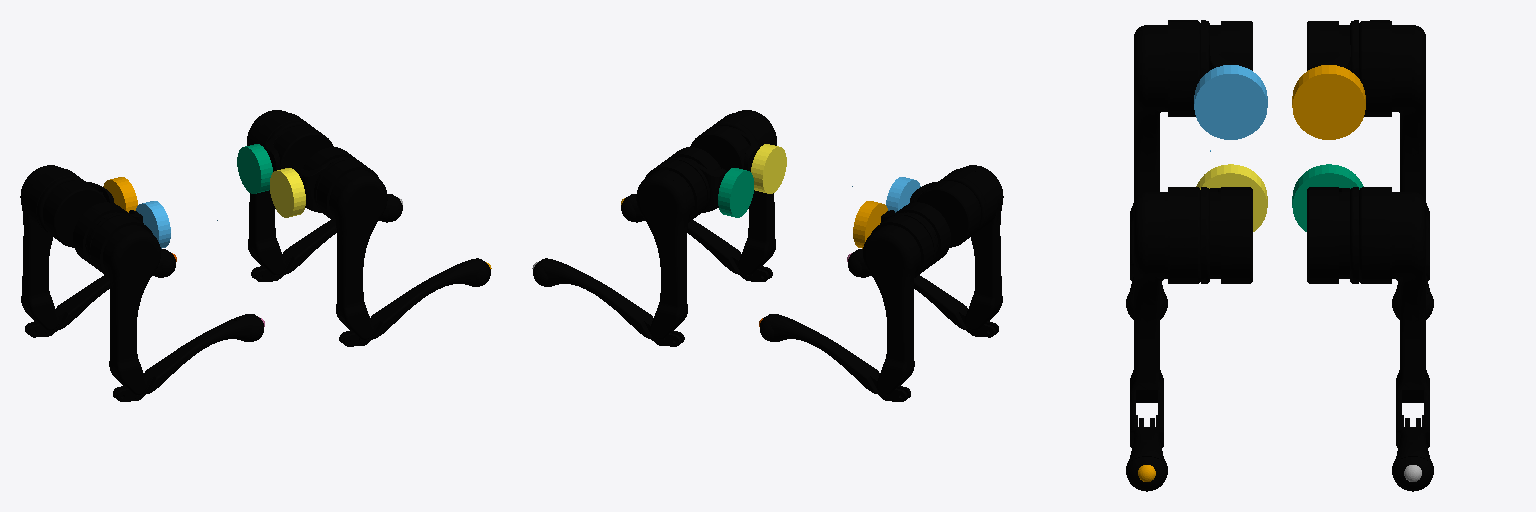
--- Render facts (derived) ---
Views: 3 orthographic renders of the robot side by side, from view 1: azimuth 30°, elevation 25°; view 2: azimuth 150°, elevation 25°; view 3: azimuth 270°, elevation 25°.
Model go1 with 45 links and 44 joints (12 revolute, 32 fixed), rooted at trunk, posed all joints at 0 but 4 set to mid-range because 0 is outside their limits (FR_calf_joint = -1.85, FL_calf_joint = -1.85, RR_calf_joint = -1.85, RL_calf_joint = -1.85).
Visible links, largest first — view 1: RR_thigh, FR_thigh, RL_thigh, FL_thigh, FR_calf, RR_calf, RL_hip, FL_hip, RL_calf, FL_calf, FR_hip_rotor, FL_hip_rotor (+4 smaller); view 2: RL_thigh, FL_thigh, RR_thigh, FR_thigh, FL_calf, RL_calf, RR_hip, FR_hip, RR_calf, FR_calf, FL_hip_rotor, FR_hip_rotor (+4 smaller); view 3: FR_thigh, FL_thigh, RR_thigh, RL_thigh, RR_hip_rotor, RL_hip_rotor, FR_hip, FL_hip, FR_calf, FL_calf, RR_hip, RL_hip (+2 smaller).
Boxes of the visible links, left/top/right/bottom form: RR_thigh: left=87, top=213, right=160, bottom=394; FR_thigh: left=314, top=158, right=387, bottom=339; RL_thigh: left=20, top=165, right=83, bottom=330; FL_thigh: left=247, top=110, right=313, bottom=274; FR_calf: left=339, top=258, right=490, bottom=346; RR_calf: left=113, top=314, right=263, bottom=401; RL_hip: left=43, top=181, right=114, bottom=247; FL_hip: left=265, top=126, right=333, bottom=171; RL_calf: left=25, top=249, right=175, bottom=337; FL_calf: left=251, top=194, right=402, bottom=281; FR_hip_rotor: left=270, top=168, right=305, bottom=217; FL_hip_rotor: left=237, top=144, right=272, bottom=193; RL_thigh: left=863, top=213, right=936, bottom=394; FL_thigh: left=636, top=158, right=709, bottom=339; RR_thigh: left=940, top=165, right=1003, bottom=330; FR_thigh: left=710, top=110, right=776, bottom=274; FL_calf: left=533, top=258, right=684, bottom=346; RL_calf: left=760, top=314, right=910, bottom=401; RR_hip: left=909, top=181, right=980, bottom=247; FR_hip: left=690, top=126, right=758, bottom=171; RR_calf: left=848, top=249, right=998, bottom=337; FR_calf: left=621, top=194, right=772, bottom=281; FL_hip_rotor: left=718, top=168, right=753, bottom=217; FR_hip_rotor: left=751, top=144, right=786, bottom=193; FR_thigh: left=1130, top=187, right=1209, bottom=430; FL_thigh: left=1350, top=187, right=1429, bottom=430; RR_thigh: left=1130, top=20, right=1209, bottom=263; RL_thigh: left=1350, top=20, right=1429, bottom=263; RR_hip_rotor: left=1194, top=65, right=1267, bottom=139; RL_hip_rotor: left=1292, top=65, right=1365, bottom=139; FR_hip: left=1209, top=187, right=1252, bottom=283; FL_hip: left=1307, top=187, right=1350, bottom=283; FR_calf: left=1126, top=418, right=1167, bottom=491; FL_calf: left=1392, top=418, right=1433, bottom=491; RR_hip: left=1209, top=21, right=1252, bottom=70; RL_hip: left=1307, top=21, right=1350, bottom=70.
Bounding box of the posed robot: 0.6367 × 0.2935 × 0.271 m (x, y, z).
Meshes: 7 distinct files referenced, 12 mesh visuals loaded (4 Collada DAE); not drawn: 9 (reference not matched to a file when rendering).

URDF robot description (go1):
<?xml version="1.0" ?>
<!-- =================================================================================== -->
<!-- |    This document was autogenerated by xacro from robot.xacro                    | -->
<!-- |    EDITING THIS FILE BY HAND IS NOT RECOMMENDED                                 | -->
<!-- =================================================================================== -->
<robot name="go1">
  <link name="trunk">
    <visual>
      <origin rpy="0 0 0" xyz="0 0 0"/>
      <geometry>
        <mesh filename="package://go1_description/meshes/trunk.dae" scale="1 1 1"/>
      </geometry>
      <!-- <material name="orange"/> -->
    </visual>
    <collision>
      <origin rpy="0 0 0" xyz="0.03 0 0"/>
      <!-- <origin rpy="0 0 0" xyz="0 0 0"/> -->
      <geometry>
        <!-- <box size="0.3762 0.0935 0.114"/> -->
        <box size="0.48 0.13 0.114"/>
      </geometry>
    </collision>
    <inertial>
      <origin rpy="0 0 0" xyz="0.0223 0.002 -0.0005"/>
      <mass value="5.204"/>
      <inertia ixx="0.0168128557" ixy="-0.0002296769" ixz="-0.0002945293" iyy="0.063009565" iyz="-4.18731e-05" izz="0.0716547275"/>
    </inertial>
  </link>
  <joint name="imu_joint" type="fixed">
    <parent link="trunk"/>
    <child link="imu_link"/>
    <origin rpy="0 0 0" xyz="-0.01592 -0.06659 -0.00617"/>
  </joint>
  <link name="imu_link">
    <inertial>
      <mass value="0.001"/>
      <origin rpy="0 0 0" xyz="0 0 0"/>
      <inertia ixx="0.0001" ixy="0" ixz="0" iyy="0.0001" iyz="0" izz="0.0001"/>
    </inertial>
    <visual>
      <origin rpy="0 0 0" xyz="0 0 0"/>
      <geometry>
        <box size="0.001 0.001 0.001"/>
      </geometry>
      <!-- <material name="red"/> -->
    </visual>
    <!-- <collision>
      <origin rpy="0 0 0" xyz="0 0 0"/>
      <geometry>
        <box size=".001 .001 .001"/>
      </geometry>
    </collision> -->
  </link>
  <joint name="FR_hip_joint" type="revolute">
    <origin rpy="0 0 0" xyz="0.1881 -0.04675 0"/>
    <parent link="trunk"/>
    <child link="FR_hip"/>
    <axis xyz="1 0 0"/>
    <dynamics damping="0.0" friction="0.0"/>
    <limit effort="23.7" lower="-0.863" upper="0.863" velocity="30.1"/>
  </joint>
  <joint name="FR_hip_rotor_joint" type="fixed">
    <origin rpy="0 0 0" xyz="0.11215 -0.04675 0"/>
    <parent link="trunk"/>
    <child link="FR_hip_rotor"/>
  </joint>
  <link name="FR_hip">
    <visual>
      <origin rpy="3.141592653589793 0 0" xyz="0 0 0"/>
      <geometry>
        <mesh filename="package://go1_description/meshes/hip.dae" scale="1 1 1"/>
      </geometry>
      <!-- <material name="orange"/> -->
    </visual>
    <collision>
      <origin rpy="1.5707963267948966 0 0" xyz="0 -0.08 0"/>
      <geometry>
        <cylinder length="0.04" radius="0.046"/>
      </geometry>
    </collision>
    <inertial>
      <origin rpy="0 0 0" xyz="-0.005657 0.008752 -0.000102"/>
      <mass value="0.591"/>
      <inertia ixx="0.000334008405" ixy="1.0826066e-05" ixz="1.290732e-06" iyy="0.000619101213" iyz="-1.643194e-06" izz="0.00040057614"/>
    </inertial>
  </link>
  <link name="FR_hip_rotor">
    <visual>
      <origin rpy="0 1.5707963267948966 0" xyz="0 0 0"/>
      <geometry>
        <cylinder length="0.02" radius="0.035"/>
      </geometry>
      <material name="green"/>
    </visual>
    <!-- <collision>
      <origin rpy="0 1.5707963267948966 0" xyz="0 0 0"/>
      <geometry>
        <cylinder length="0.02" radius="0.035"/>
      </geometry>
    </collision> -->
    <inertial>
      <origin rpy="0 0 0" xyz="0.0 0.0 0.0"/>
      <mass value="0.089"/>
      <inertia ixx="0.000111842" ixy="0.0" ixz="0.0" iyy="5.9647e-05" iyz="0.0" izz="5.9647e-05"/>
    </inertial>
  </link>
  <joint name="FR_thigh_joint" type="revolute">
    <origin rpy="0 0 0" xyz="0 -0.08 0"/>
    <parent link="FR_hip"/>
    <child link="FR_thigh"/>
    <axis xyz="0 1 0"/>
    <dynamics damping="0.0" friction="0.0"/>
    <limit effort="23.7" lower="-0.686" upper="4.501" velocity="30.1"/>
  </joint>
  <joint name="FR_thigh_rotor_joint" type="fixed">
    <origin rpy="0 0 0" xyz="0.0 0.00015 0"/>
    <parent link="FR_hip"/>
    <child link="FR_thigh_rotor"/>
  </joint>
  <link name="FR_thigh">
    <visual>
      <origin rpy="0 0 0" xyz="0 0 0"/>
      <geometry>
        <mesh filename="package://go1_description/meshes/thigh_mirror.dae" scale="1 1 1"/>
      </geometry>
    </visual>
    <collision>
      <origin rpy="0 1.5707963267948966 0" xyz="0 0 -0.1065"/>
      <geometry>
        <!-- <box size="0.213 0.0245 0.034"/> -->
        <box size="0.1 0.0245 0.034"/>
      </geometry>
    </collision>
    <inertial>
      <origin rpy="0 0 0" xyz="-0.003342 0.018054 -0.033451"/>
      <mass value="0.92"/>
      <inertia ixx="0.004431760472" ixy="-5.7496807e-05" ixz="-0.000218457134" iyy="0.004485671726" iyz="-0.000572001265" izz="0.000740309489"/>
    </inertial>
  </link>
  <link name="FR_thigh_rotor">
    <visual>
      <origin rpy="1.5707963267948966 0 0" xyz="0 0 0"/>
      <geometry>
        <cylinder length="0.02" radius="0.035"/>
      </geometry>
      <material name="green"/>
    </visual>
    <!-- <collision>
      <origin rpy="1.5707963267948966 0 0" xyz="0 0 0"/>
      <geometry>
        <cylinder length="0.02" radius="0.035"/>
      </geometry>
    </collision> -->
    <inertial>
      <origin rpy="0 0 0" xyz="0.0 0.0 0.0"/>
      <mass value="0.089"/>
      <inertia ixx="5.9647e-05" ixy="0.0" ixz="0.0" iyy="0.000111842" iyz="0.0" izz="5.9647e-05"/>
    </inertial>
  </link>
  <joint name="FR_calf_joint" type="revolute">
    <origin rpy="0 0 0" xyz="0 0 -0.213"/>
    <parent link="FR_thigh"/>
    <child link="FR_calf"/>
    <axis xyz="0 1 0"/>
    <dynamics damping="0.0" friction="0.0"/>
    <limit effort="35.55" lower="-2.818" upper="-0.888" velocity="20.06"/>
  </joint>
  <joint name="FR_calf_rotor_joint" type="fixed">
    <origin rpy="0 0 0" xyz="0.0 0.03235 0"/>
    <parent link="FR_thigh"/>
    <child link="FR_calf_rotor"/>
  </joint>
  <link name="FR_calf">
    <visual>
      <origin rpy="0 0 0" xyz="0 0 0"/>
      <geometry>
        <mesh filename="package://go1_description/meshes/calf.dae" scale="1 1 1"/>
      </geometry>
      <!-- <material name="orange"/> -->
    </visual>
    <collision>
      <origin rpy="0 1.5707963267948966 0" xyz="0 0 -0.1065"/>
      <geometry>
        <box size="0.213 0.016 0.016"/>
      </geometry>
    </collision>
    <inertial>
      <origin rpy="0 0 0" xyz="0.006197 0.001408 -0.116695"/>
      <mass value="0.135862"/>
      <inertia ixx="0.001088793059" ixy="-2.55679e-07" ixz="7.117814e-06" iyy="0.001100428748" iyz="2.077264e-06" izz="2.4787446e-05"/>
    </inertial>
  </link>
  <link name="FR_calf_rotor">
    <visual>
      <origin rpy="1.5707963267948966 0 0" xyz="0 0 0"/>
      <geometry>
        <cylinder length="0.02" radius="0.035"/>
      </geometry>
      <material name="green"/>
    </visual>
    <collision>
      <origin rpy="1.5707963267948966 0 0" xyz="0 0 0"/>
      <geometry>
        <cylinder length="0.02" radius="0.035"/>
      </geometry>
    </collision>
    <inertial>
      <origin rpy="0 0 0" xyz="0.0 0.0 0.0"/>
      <mass value="0.089"/>
      <inertia ixx="5.9647e-05" ixy="0.0" ixz="0.0" iyy="0.000111842" iyz="0.0" izz="5.9647e-05"/>
    </inertial>
  </link>
  <joint name="FR_foot_fixed" type="fixed" dont_collapse="true">
    <origin rpy="0 0 0" xyz="0 0 -0.213"/>
    <parent link="FR_calf"/>
    <child link="FR_foot"/>
  </joint>
  <link name="FR_foot">
    <visual>
      <origin rpy="0 0 0" xyz="0 0 0"/>
      <geometry>
        <sphere radius="0.01"/>
      </geometry>
      <!-- <material name="orange"/> -->
    </visual>
    <collision>
      <origin rpy="0 0 0" xyz="0 0 0"/>
      <geometry>
        <sphere radius="0.02"/>
      </geometry>
    </collision>
    <inertial>
      <mass value="0.06"/>
      <inertia ixx="9.600000000000001e-06" ixy="0.0" ixz="0.0" iyy="9.600000000000001e-06" iyz="0.0" izz="9.600000000000001e-06"/>
    </inertial>
  </link>
  <joint name="FL_hip_joint" type="revolute">
    <origin rpy="0 0 0" xyz="0.1881 0.04675 0"/>
    <parent link="trunk"/>
    <child link="FL_hip"/>
    <axis xyz="1 0 0"/>
    <dynamics damping="0.0" friction="0.0"/>
    <limit effort="23.7" lower="-0.863" upper="0.863" velocity="30.1"/>
  </joint>
  <joint name="FL_hip_rotor_joint" type="fixed">
    <origin rpy="0 0 0" xyz="0.11215 0.04675 0"/>
    <parent link="trunk"/>
    <child link="FL_hip_rotor"/>
  </joint>
  <link name="FL_hip">
    <visual>
      <origin rpy="0 0 0" xyz="0 0 0"/>
      <geometry>
        <mesh filename="package://go1_description/meshes/hip.dae" scale="1 1 1"/>
      </geometry>
      <!-- <material name="orange"/> -->
    </visual>
    <collision>
      <origin rpy="1.5707963267948966 0 0" xyz="0 0.08 0"/>
      <geometry>
        <cylinder length="0.04" radius="0.046"/>
      </geometry>
    </collision>
    <inertial>
      <origin rpy="0 0 0" xyz="-0.005657 -0.008752 -0.000102"/>
      <mass value="0.591"/>
      <inertia ixx="0.000334008405" ixy="-1.0826066e-05" ixz="1.290732e-06" iyy="0.000619101213" iyz="1.643194e-06" izz="0.00040057614"/>
    </inertial>
  </link>
  <link name="FL_hip_rotor">
    <visual>
      <origin rpy="0 1.5707963267948966 0" xyz="0 0 0"/>
      <geometry>
        <cylinder length="0.02" radius="0.035"/>
      </geometry>
      <material name="green"/>
    </visual>
    <!-- <collision>
      <origin rpy="0 1.5707963267948966 0" xyz="0 0 0"/>
      <geometry>
        <cylinder length="0.02" radius="0.035"/>
      </geometry>
    </collision> -->
    <inertial>
      <origin rpy="0 0 0" xyz="0.0 0.0 0.0"/>
      <mass value="0.089"/>
      <inertia ixx="0.000111842" ixy="0.0" ixz="0.0" iyy="5.9647e-05" iyz="0.0" izz="5.9647e-05"/>
    </inertial>
  </link>
  <joint name="FL_thigh_joint" type="revolute">
    <origin rpy="0 0 0" xyz="0 0.08 0"/>
    <parent link="FL_hip"/>
    <child link="FL_thigh"/>
    <axis xyz="0 1 0"/>
    <dynamics damping="0.0" friction="0.0"/>
    <limit effort="23.7" lower="-0.686" upper="4.501" velocity="30.1"/>
  </joint>
  <joint name="FL_thigh_rotor_joint" type="fixed">
    <origin rpy="0 0 0" xyz="0.0 -0.00015 0"/>
    <parent link="FL_hip"/>
    <child link="FL_thigh_rotor"/>
  </joint>
  <link name="FL_thigh">
    <visual>
      <origin rpy="0 0 0" xyz="0 0 0"/>
      <geometry>
        <mesh filename="package://go1_description/meshes/thigh.dae" scale="1 1 1"/>
      </geometry>
      <!-- <material name="orange"/> -->
    </visual>
    <collision>
      <origin rpy="0 1.5707963267948966 0" xyz="0 0 -0.1065"/>
      <geometry>
        <!-- <box size="0.213 0.0245 0.034"/> -->
        <box size="0.1 0.0245 0.034"/>
      </geometry>
    </collision>
    <inertial>
      <origin rpy="0 0 0" xyz="-0.003342 -0.018054 -0.033451"/>
      <mass value="0.92"/>
      <inertia ixx="0.004431760472" ixy="5.7496807e-05" ixz="-0.000218457134" iyy="0.004485671726" iyz="0.000572001265" izz="0.000740309489"/>
    </inertial>
  </link>
  <link name="FL_thigh_rotor">
    <visual>
      <origin rpy="1.5707963267948966 0 0" xyz="0 0 0"/>
      <geometry>
        <cylinder length="0.02" radius="0.035"/>
      </geometry>
      <material name="green"/>
    </visual>
    <!-- <collision>
      <origin rpy="1.5707963267948966 0 0" xyz="0 0 0"/>
      <geometry>
        <cylinder length="0.02" radius="0.035"/>
      </geometry>
    </collision> -->
    <inertial>
      <origin rpy="0 0 0" xyz="0.0 0.0 0.0"/>
      <mass value="0.089"/>
      <inertia ixx="5.9647e-05" ixy="0.0" ixz="0.0" iyy="0.000111842" iyz="0.0" izz="5.9647e-05"/>
    </inertial>
  </link>
  <joint name="FL_calf_joint" type="revolute">
    <origin rpy="0 0 0" xyz="0 0 -0.213"/>
    <parent link="FL_thigh"/>
    <child link="FL_calf"/>
    <axis xyz="0 1 0"/>
    <dynamics damping="0.0" friction="0.0"/>
    <limit effort="35.55" lower="-2.818" upper="-0.888" velocity="20.06"/>
  </joint>
  <joint name="FL_calf_rotor_joint" type="fixed">
    <origin rpy="0 0 0" xyz="0.0 -0.03235 0"/>
    <parent link="FL_thigh"/>
    <child link="FL_calf_rotor"/>
  </joint>
  <link name="FL_calf">
    <visual>
      <origin rpy="0 0 0" xyz="0 0 0"/>
      <geometry>
        <mesh filename="package://go1_description/meshes/calf.dae" scale="1 1 1"/>
      </geometry>
      <!-- <material name="orange"/> -->
    </visual>
    <collision>
      <origin rpy="0 1.5707963267948966 0" xyz="0 0 -0.1065"/>
      <geometry>
        <box size="0.213 0.016 0.016"/>
      </geometry>
    </collision>
    <inertial>
      <origin rpy="0 0 0" xyz="0.006197 0.001408 -0.116695"/>
      <mass value="0.135862"/>
      <inertia ixx="0.001088793059" ixy="-2.55679e-07" ixz="7.117814e-06" iyy="0.001100428748" iyz="2.077264e-06" izz="2.4787446e-05"/>
    </inertial>
  </link>
  <link name="FL_calf_rotor">
    <visual>
      <origin rpy="1.5707963267948966 0 0" xyz="0 0 0"/>
      <geometry>
        <cylinder length="0.02" radius="0.035"/>
      </geometry>
      <material name="green"/>
    </visual>
    <collision>
      <origin rpy="1.5707963267948966 0 0" xyz="0 0 0"/>
      <geometry>
        <cylinder length="0.02" radius="0.035"/>
      </geometry>
    </collision>
    <inertial>
      <origin rpy="0 0 0" xyz="0.0 0.0 0.0"/>
      <mass value="0.089"/>
      <inertia ixx="5.9647e-05" ixy="0.0" ixz="0.0" iyy="0.000111842" iyz="0.0" izz="5.9647e-05"/>
    </inertial>
  </link>
  <joint name="FL_foot_fixed" type="fixed" dont_collapse="true">
    <origin rpy="0 0 0" xyz="0 0 -0.213"/>
    <parent link="FL_calf"/>
    <child link="FL_foot"/>
  </joint>
  <link name="FL_foot">
    <visual>
      <origin rpy="0 0 0" xyz="0 0 0"/>
      <geometry>
        <sphere radius="0.01"/>
      </geometry>
      <!-- <material name="orange"/> -->
    </visual>
    <collision>
      <origin rpy="0 0 0" xyz="0 0 0"/>
      <geometry>
        <sphere radius="0.02"/>
      </geometry>
    </collision>
    <inertial>
      <mass value="0.06"/>
      <inertia ixx="9.600000000000001e-06" ixy="0.0" ixz="0.0" iyy="9.600000000000001e-06" iyz="0.0" izz="9.600000000000001e-06"/>
    </inertial>
  </link>
  <joint name="RR_hip_joint" type="revolute">
    <origin rpy="0 0 0" xyz="-0.1881 -0.04675 0"/>
    <parent link="trunk"/>
    <child link="RR_hip"/>
    <axis xyz="1 0 0"/>
    <dynamics damping="0.0" friction="0.0"/>
    <limit effort="23.7" lower="-0.863" upper="0.863" velocity="30.1"/>
  </joint>
  <joint name="RR_hip_rotor_joint" type="fixed">
    <origin rpy="0 0 0" xyz="-0.11215 -0.04675 0"/>
    <parent link="trunk"/>
    <child link="RR_hip_rotor"/>
  </joint>
  <link name="RR_hip">
    <visual>
      <origin rpy="3.141592653589793 3.141592653589793 0" xyz="0 0 0"/>
      <geometry>
        <mesh filename="package://go1_description/meshes/hip.dae" scale="1 1 1"/>
      </geometry>
      <!-- <material name="orange"/> -->
    </visual>
    <collision>
      <origin rpy="1.5707963267948966 0 0" xyz="0 -0.08 0"/>
      <geometry>
        <cylinder length="0.04" radius="0.046"/>
      </geometry>
    </collision>
    <inertial>
      <origin rpy="0 0 0" xyz="0.005657 0.008752 -0.000102"/>
      <mass value="0.591"/>
      <inertia ixx="0.000334008405" ixy="-1.0826066e-05" ixz="-1.290732e-06" iyy="0.000619101213" iyz="-1.643194e-06" izz="0.00040057614"/>
    </inertial>
  </link>
  <link name="RR_hip_rotor">
    <visual>
      <origin rpy="0 1.5707963267948966 0" xyz="0 0 0"/>
      <geometry>
        <cylinder length="0.02" radius="0.035"/>
      </geometry>
      <material name="green"/>
    </visual>
    <!-- <collision>
      <origin rpy="0 1.5707963267948966 0" xyz="0 0 0"/>
      <geometry>
        <cylinder length="0.02" radius="0.035"/>
      </geometry>
    </collision> -->
    <inertial>
      <origin rpy="0 0 0" xyz="0.0 0.0 0.0"/>
      <mass value="0.089"/>
      <inertia ixx="0.000111842" ixy="0.0" ixz="0.0" iyy="5.9647e-05" iyz="0.0" izz="5.9647e-05"/>
    </inertial>
  </link>
  <joint name="RR_thigh_joint" type="revolute">
    <origin rpy="0 0 0" xyz="0 -0.08 0"/>
    <parent link="RR_hip"/>
    <child link="RR_thigh"/>
    <axis xyz="0 1 0"/>
    <dynamics damping="0.0" friction="0.0"/>
    <limit effort="23.7" lower="-0.686" upper="4.501" velocity="30.1"/>
  </joint>
  <joint name="RR_thigh_rotor_joint" type="fixed">
    <origin rpy="0 0 0" xyz="0.0 0.00015 0"/>
    <parent link="RR_hip"/>
    <child link="RR_thigh_rotor"/>
  </joint>
  <link name="RR_thigh">
    <visual>
      <origin rpy="0 0 0" xyz="0 0 0"/>
      <geometry>
        <mesh filename="package://go1_description/meshes/thigh_mirror.dae" scale="1 1 1"/>
      </geometry>
      <!-- <material name="orange"/> -->
    </visual>
    <collision>
      <origin rpy="0 1.5707963267948966 0" xyz="0 0 -0.1065"/>
      <geometry>
        <!-- <box size="0.213 0.0245 0.034"/> -->
        <box size="0.1 0.0245 0.034"/>
      </geometry>
    </collision>
    <inertial>
      <origin rpy="0 0 0" xyz="-0.003342 0.018054 -0.033451"/>
      <mass value="0.92"/>
      <inertia ixx="0.004431760472" ixy="-5.7496807e-05" ixz="-0.000218457134" iyy="0.004485671726" iyz="-0.000572001265" izz="0.000740309489"/>
    </inertial>
  </link>
  <link name="RR_thigh_rotor">
    <visual>
      <origin rpy="1.5707963267948966 0 0" xyz="0 0 0"/>
      <geometry>
        <cylinder length="0.02" radius="0.035"/>
      </geometry>
      <material name="green"/>
    </visual>
    <!-- <collision>
      <origin rpy="1.5707963267948966 0 0" xyz="0 0 0"/>
      <geometry>
        <cylinder length="0.02" radius="0.035"/>
      </geometry>
    </collision> -->
    <inertial>
      <origin rpy="0 0 0" xyz="0.0 0.0 0.0"/>
      <mass value="0.089"/>
      <inertia ixx="5.9647e-05" ixy="0.0" ixz="0.0" iyy="0.000111842" iyz="0.0" izz="5.9647e-05"/>
    </inertial>
  </link>
  <joint name="RR_calf_joint" type="revolute">
    <origin rpy="0 0 0" xyz="0 0 -0.213"/>
    <parent link="RR_thigh"/>
    <child link="RR_calf"/>
    <axis xyz="0 1 0"/>
    <dynamics damping="0.0" friction="0.0"/>
    <limit effort="35.55" lower="-2.818" upper="-0.888" velocity="20.06"/>
  </joint>
  <joint name="RR_calf_rotor_joint" type="fixed">
    <origin rpy="0 0 0" xyz="0.0 0.03235 0"/>
    <parent link="RR_thigh"/>
    <child link="RR_calf_rotor"/>
  </joint>
  <link name="RR_calf">
    <visual>
      <origin rpy="0 0 0" xyz="0 0 0"/>
      <geometry>
        <mesh filename="package://go1_description/meshes/calf.dae" scale="1 1 1"/>
      </geometry>
      <!-- <material name="orange"/> -->
    </visual>
    <collision>
      <origin rpy="0 1.5707963267948966 0" xyz="0 0 -0.1065"/>
      <geometry>
        <box size="0.213 0.016 0.016"/>
      </geometry>
    </collision>
    <inertial>
      <origin rpy="0 0 0" xyz="0.006197 0.001408 -0.116695"/>
      <mass value="0.135862"/>
      <inertia ixx="0.001088793059" ixy="-2.55679e-07" ixz="7.117814e-06" iyy="0.001100428748" iyz="2.077264e-06" izz="2.4787446e-05"/>
    </inertial>
  </link>
  <link name="RR_calf_rotor">
    <visual>
      <origin rpy="1.5707963267948966 0 0" xyz="0 0 0"/>
      <geometry>
        <cylinder length="0.02" radius="0.035"/>
      </geometry>
      <material name="green"/>
    </visual>
    <collision>
      <origin rpy="1.5707963267948966 0 0" xyz="0 0 0"/>
      <geometry>
        <cylinder length="0.02" radius="0.035"/>
      </geometry>
    </collision>
    <inertial>
      <origin rpy="0 0 0" xyz="0.0 0.0 0.0"/>
      <mass value="0.089"/>
      <inertia ixx="5.9647e-05" ixy="0.0" ixz="0.0" iyy="0.000111842" iyz="0.0" izz="5.9647e-05"/>
    </inertial>
  </link>
  <joint name="RR_foot_fixed" type="fixed" dont_collapse="true">
    <origin rpy="0 0 0" xyz="0 0 -0.213"/>
    <parent link="RR_calf"/>
    <child link="RR_foot"/>
  </joint>
  <link name="RR_foot">
    <visual>
      <origin rpy="0 0 0" xyz="0 0 0"/>
      <geometry>
        <sphere radius="0.01"/>
      </geometry>
      <!-- <material name="orange"/> -->
    </visual>
    <collision>
      <origin rpy="0 0 0" xyz="0 0 0"/>
      <geometry>
        <sphere radius="0.02"/>
      </geometry>
    </collision>
    <inertial>
      <mass value="0.06"/>
      <inertia ixx="9.600000000000001e-06" ixy="0.0" ixz="0.0" iyy="9.600000000000001e-06" iyz="0.0" izz="9.600000000000001e-06"/>
    </inertial>
  </link>
  <joint name="RL_hip_joint" type="revolute">
    <origin rpy="0 0 0" xyz="-0.1881 0.04675 0"/>
    <parent link="trunk"/>
    <child link="RL_hip"/>
    <axis xyz="1 0 0"/>
    <dynamics damping="0.0" friction="0.0"/>
    <limit effort="23.7" lower="-0.863" upper="0.863" velocity="30.1"/>
  </joint>
  <joint name="RL_hip_rotor_joint" type="fixed">
    <origin rpy="0 0 0" xyz="-0.11215 0.04675 0"/>
    <parent link="trunk"/>
    <child link="RL_hip_rotor"/>
  </joint>
  <link name="RL_hip">
    <visual>
      <origin rpy="0 3.141592653589793 0" xyz="0 0 0"/>
      <geometry>
        <mesh filename="package://go1_description/meshes/hip.dae" scale="1 1 1"/>
      </geometry>
      <!-- <material name="orange"/> -->
    </visual>
    <collision>
      <origin rpy="1.5707963267948966 0 0" xyz="0 0.08 0"/>
      <geometry>
        <cylinder length="0.04" radius="0.046"/>
      </geometry>
    </collision>
    <inertial>
      <origin rpy="0 0 0" xyz="0.005657 -0.008752 -0.000102"/>
      <mass value="0.591"/>
      <inertia ixx="0.000334008405" ixy="1.0826066e-05" ixz="-1.290732e-06" iyy="0.000619101213" iyz="1.643194e-06" izz="0.00040057614"/>
    </inertial>
  </link>
  <link name="RL_hip_rotor">
    <visual>
      <origin rpy="0 1.5707963267948966 0" xyz="0 0 0"/>
      <geometry>
        <cylinder length="0.02" radius="0.035"/>
      </geometry>
      <material name="green"/>
    </visual>
    <!-- <collision>
      <origin rpy="0 1.5707963267948966 0" xyz="0 0 0"/>
      <geometry>
        <cylinder length="0.02" radius="0.035"/>
      </geometry>
    </collision> -->
    <inertial>
      <origin rpy="0 0 0" xyz="0.0 0.0 0.0"/>
      <mass value="0.089"/>
      <inertia ixx="0.000111842" ixy="0.0" ixz="0.0" iyy="5.9647e-05" iyz="0.0" izz="5.9647e-05"/>
    </inertial>
  </link>
  <joint name="RL_thigh_joint" type="revolute">
    <origin rpy="0 0 0" xyz="0 0.08 0"/>
    <parent link="RL_hip"/>
    <child link="RL_thigh"/>
    <axis xyz="0 1 0"/>
    <dynamics damping="0.0" friction="0.0"/>
    <limit effort="23.7" lower="-0.686" upper="4.501" velocity="30.1"/>
  </joint>
  <joint name="RL_thigh_rotor_joint" type="fixed">
    <origin rpy="0 0 0" xyz="0.0 -0.00015 0"/>
    <parent link="RL_hip"/>
    <child link="RL_thigh_rotor"/>
  </joint>
  <link name="RL_thigh">
    <visual>
      <origin rpy="0 0 0" xyz="0 0 0"/>
      <geometry>
        <mesh filename="package://go1_description/meshes/thigh.dae" scale="1 1 1"/>
      </geometry>
      <!-- <material name="orange"/> -->
    </visual>
    <collision>
      <origin rpy="0 1.5707963267948966 0" xyz="0 0 -0.1065"/>
      <geometry>
        <!-- <box size="0.213 0.0245 0.034"/> -->
        <box size="0.1 0.0245 0.034"/>
      </geometry>
    </collision>
    <inertial>
      <origin rpy="0 0 0" xyz="-0.003342 -0.018054 -0.033451"/>
      <mass value="0.92"/>
      <inertia ixx="0.004431760472" ixy="5.7496807e-05" ixz="-0.000218457134" iyy="0.004485671726" iyz="0.000572001265" izz="0.000740309489"/>
    </inertial>
  </link>
  <link name="RL_thigh_rotor">
    <visual>
      <origin rpy="1.5707963267948966 0 0" xyz="0 0 0"/>
      <geometry>
        <cylinder length="0.02" radius="0.035"/>
      </geometry>
      <material name="green"/>
    </visual>
    <!-- <collision>
      <origin rpy="1.5707963267948966 0 0" xyz="0 0 0"/>
      <geometry>
        <cylinder length="0.02" radius="0.035"/>
      </geometry>
    </collision> -->
    <inertial>
      <origin rpy="0 0 0" xyz="0.0 0.0 0.0"/>
      <mass value="0.089"/>
      <inertia ixx="5.9647e-05" ixy="0.0" ixz="0.0" iyy="0.000111842" iyz="0.0" izz="5.9647e-05"/>
    </inertial>
  </link>
  <joint name="RL_calf_joint" type="revolute">
    <origin rpy="0 0 0" xyz="0 0 -0.213"/>
    <parent link="RL_thigh"/>
    <child link="RL_calf"/>
    <axis xyz="0 1 0"/>
    <dynamics damping="0.0" friction="0.0"/>
    <limit effort="35.55" lower="-2.818" upper="-0.888" velocity="20.06"/>
  </joint>
  <joint name="RL_calf_rotor_joint" type="fixed">
    <origin rpy="0 0 0" xyz="0.0 -0.03235 0"/>
    <parent link="RL_thigh"/>
    <child link="RL_calf_rotor"/>
  </joint>
  <link name="RL_calf">
    <visual>
      <origin rpy="0 0 0" xyz="0 0 0"/>
      <geometry>
        <mesh filename="package://go1_description/meshes/calf.dae" scale="1 1 1"/>
      </geometry>
      <!-- <material name="orange"/> -->
    </visual>
    <collision>
      <origin rpy="0 1.5707963267948966 0" xyz="0 0 -0.1065"/>
      <geometry>
        <box size="0.213 0.016 0.016"/>
      </geometry>
    </collision>
    <inertial>
      <origin rpy="0 0 0" xyz="0.006197 0.001408 -0.116695"/>
      <mass value="0.135862"/>
      <inertia ixx="0.001088793059" ixy="-2.55679e-07" ixz="7.117814e-06" iyy="0.001100428748" iyz="2.077264e-06" izz="2.4787446e-05"/>
    </inertial>
  </link>
  <link name="RL_calf_rotor">
    <visual>
      <origin rpy="1.5707963267948966 0 0" xyz="0 0 0"/>
      <geometry>
        <cylinder length="0.02" radius="0.035"/>
      </geometry>
      <material name="green"/>
    </visual>
    <collision>
      <origin rpy="1.5707963267948966 0 0" xyz="0 0 0"/>
      <geometry>
        <cylinder length="0.02" radius="0.035"/>
      </geometry>
    </collision>
    <inertial>
      <origin rpy="0 0 0" xyz="0.0 0.0 0.0"/>
      <mass value="0.089"/>
      <inertia ixx="5.9647e-05" ixy="0.0" ixz="0.0" iyy="0.000111842" iyz="0.0" izz="5.9647e-05"/>
    </inertial>
  </link>
  <joint name="RL_foot_fixed" type="fixed" dont_collapse="true">
    <origin rpy="0 0 0" xyz="0 0 -0.213"/>
    <parent link="RL_calf"/>
    <child link="RL_foot"/>
  </joint>
  <link name="RL_foot">
    <visual>
      <origin rpy="0 0 0" xyz="0 0 0"/>
      <geometry>
        <sphere radius="0.01"/>
      </geometry>
      <!-- <material name="orange"/> -->
    </visual>
    <collision>
      <origin rpy="0 0 0" xyz="0 0 0"/>
      <geometry>
        <sphere radius="0.02"/>
      </geometry>
    </collision>
    <inertial>
      <mass value="0.06"/>
      <inertia ixx="9.600000000000001e-06" ixy="0.0" ixz="0.0" iyy="9.600000000000001e-06" iyz="0.0" izz="9.600000000000001e-06"/>
    </inertial>
  </link>
  <joint name="camera_joint_face" type="fixed">
    <origin rpy="3.141592653589793 0 0" xyz="0.2785 0.0125 0.0167"/>
    <parent link="trunk"/>
    <child link="camera_face"/>
  </joint>
  <link name="camera_face">
    <!-- <collision>
      <origin rpy="0 0 0" xyz="0 0 0"/>
      <geometry>
        <box size=".001 .001 .001"/>
      </geometry>
    </collision> -->
    <visual>
      <origin rpy="0 0 0" xyz="0 0 0"/>
      <geometry>
        <mesh filename="package://go1_description/meshes/depthCamera.dae" scale="1 1 1"/>
      </geometry>
    </visual>
    <!-- <inertial>
      <mass value="1e-5"/>
      <origin rpy="0 0 0" xyz="0 0 0"/>
      <inertia ixx="1e-6" ixy="0" ixz="0" iyy="1e-6" iyz="0" izz="1e-6"/>
    </inertial> -->
  </link>
  <joint name="camera_optical_joint_face" type="fixed">
    <origin rpy="-1.5707963267948966 0 -1.5707963267948966" xyz="0 0 0"/>
    <parent link="camera_face"/>
    <child link="camera_optical_face"/>
  </joint>
  <link name="camera_optical_face">
        </link>
  <joint name="camera_joint_chin" type="fixed">
    <origin rpy="3.141592653589793 1.5707963267948966 0" xyz="0.2522 0.0125 -0.0436"/>
    <parent link="trunk"/>
    <child link="camera_chin"/>
  </joint>
  <link name="camera_chin">
    <!-- <collision>
      <origin rpy="0 0 0" xyz="0 0 0"/>
      <geometry>
        <box size=".001 .001 .001"/>
      </geometry>
    </collision> -->
    <visual>
      <origin rpy="0 0 0" xyz="0 0 0"/>
      <geometry>
        <mesh filename="package://go1_description/meshes/depthCamera.dae" scale="1 1 1"/>
      </geometry>
    </visual>
    <!-- <inertial>
      <mass value="1e-5"/>
      <origin rpy="0 0 0" xyz="0 0 0"/>
      <inertia ixx="1e-6" ixy="0" ixz="0" iyy="1e-6" iyz="0" izz="1e-6"/>
    </inertial> -->
  </link>
  <joint name="camera_optical_joint_chin" type="fixed">
    <origin rpy="-1.5707963267948966 0 -1.5707963267948966" xyz="0 0 0"/>
    <parent link="camera_chin"/>
    <child link="camera_optical_chin"/>
  </joint>
  <link name="camera_optical_chin">
        </link>
  <joint name="camera_joint_left" type="fixed">
    <origin rpy="3.141592653589793 0.2618 1.5707963267948966" xyz="-0.066 0.082 -0.0176"/>
    <parent link="trunk"/>
    <child link="camera_left"/>
  </joint>
  <link name="camera_left">
    <!-- <collision>
      <origin rpy="0 0 0" xyz="0 0 0"/>
      <geometry>
        <box size=".001 .001 .001"/>
      </geometry>
    </collision> -->
    <visual>
      <origin rpy="0 0 0" xyz="0 0 0"/>
      <geometry>
        <mesh filename="package://go1_description/meshes/depthCamera.dae" scale="1 1 1"/>
      </geometry>
    </visual>
    <!-- <inertial>
      <mass value="1e-5"/>
      <origin rpy="0 0 0" xyz="0 0 0"/>
      <inertia ixx="1e-6" ixy="0" ixz="0" iyy="1e-6" iyz="0" izz="1e-6"/>
    </inertial> -->
  </link>
  <joint name="camera_optical_joint_left" type="fixed">
    <origin rpy="-1.5707963267948966 0 -1.5707963267948966" xyz="0 0 0"/>
    <parent link="camera_left"/>
    <child link="camera_optical_left"/>
  </joint>
  <link name="camera_optical_left">
        </link>
  <joint name="camera_joint_right" type="fixed">
    <origin rpy="3.141592653589793 0.2618 -1.5707963267948966" xyz="-0.041 -0.082 -0.0176"/>
    <parent link="trunk"/>
    <child link="camera_right"/>
  </joint>
  <link name="camera_right">
    <!-- <collision>
      <origin rpy="0 0 0" xyz="0 0 0"/>
      <geometry>
        <box size=".001 .001 .001"/>
      </geometry>
    </collision> -->
    <visual>
      <origin rpy="0 0 0" xyz="0 0 0"/>
      <geometry>
        <mesh filename="package://go1_description/meshes/depthCamera.dae" scale="1 1 1"/>
      </geometry>
    </visual>
    <!-- <inertial>
      <mass value="1e-5"/>
      <origin rpy="0 0 0" xyz="0 0 0"/>
      <inertia ixx="1e-6" ixy="0" ixz="0" iyy="1e-6" iyz="0" izz="1e-6"/>
    </inertial> -->
  </link>
  <joint name="camera_optical_joint_right" type="fixed">
    <origin rpy="-1.5707963267948966 0 -1.5707963267948966" xyz="0 0 0"/>
    <parent link="camera_right"/>
    <child link="camera_optical_right"/>
  </joint>
  <link name="camera_optical_right">
  </link>
  <joint name="camera_joint_rearDown" type="fixed">
    <origin rpy="3.141592653589793 1.5707963267948966 0" xyz="-0.0825 0.0125 -0.04365"/>
    <parent link="trunk"/>
    <child link="camera_rearDown"/>
  </joint>
  <link name="camera_rearDown">
    <!-- <collision>
      <origin rpy="0 0 0" xyz="0 0 0"/>
      <geometry>
        <box size=".001 .001 .001"/>
      </geometry>
    </collision> -->
    <visual>
      <origin rpy="0 0 0" xyz="0 0 0"/>
      <geometry>
        <mesh filename="package://go1_description/meshes/depthCamera.dae" scale="1 1 1"/>
      </geometry>
    </visual>
    <!-- <inertial>
      <mass value="1e-5"/>
      <origin rpy="0 0 0" xyz="0 0 0"/>
      <inertia ixx="1e-6" ixy="0" ixz="0" iyy="1e-6" iyz="0" izz="1e-6"/>
    </inertial> -->
  </link>
  <joint name="camera_optical_joint_rearDown" type="fixed">
    <origin rpy="-1.5707963267948966 0 -1.5707963267948966" xyz="0 0 0"/>
    <parent link="camera_rearDown"/>
    <child link="camera_optical_rearDown"/>
  </joint>
  <link name="camera_optical_rearDown">
  </link>
  <joint name="camera_laserscan_joint_left" type="fixed">
    <origin rpy="0 0.2618 0" xyz="0 0 0"/>
    <parent link="camera_left"/>
    <child link="camera_laserscan_link_left"/>
  </joint>
  <link name="camera_laserscan_link_left">
    </link>
  <joint name="camera_laserscan_joint_right" type="fixed">
    <origin rpy="0 0.2618 0" xyz="0 0 0"/>
    <parent link="camera_right"/>
    <child link="camera_laserscan_link_right"/>
  </joint>
  <link name="camera_laserscan_link_right">
    </link>
  <joint name="ultraSound_joint_left" type="fixed">
    <origin rpy="0 0.2618 1.5707963267948966" xyz="-0.0535  0.0826 0.00868"/>
    <parent link="trunk"/>
    <child link="ultraSound_left"/>
  </joint>
  <link name="ultraSound_left">
    <!-- <collision>
      <origin rpy="0 0 0" xyz="0 0 0"/>
      <geometry>
        <box size=".001 .001 .001"/>
      </geometry>
    </collision> -->
    <visual>
      <origin rpy="0 0 0" xyz="0 0 0"/>
      <geometry>
        <mesh filename="package://go1_description/meshes/ultraSound.dae" scale="1 1 1"/>
      </geometry>
      <material name="black"/>
    </visual>
    <!-- <inertial>
      <mass value="1e-5"/>
      <origin rpy="0 0 0" xyz="0 0 0"/>
      <inertia ixx="1e-6" ixy="0" ixz="0" iyy="1e-6" iyz="0" izz="1e-6"/>
    </inertial> -->
  </link>
  <joint name="ultraSound_joint_right" type="fixed">
    <origin rpy="0 0.2618 -1.5707963267948966" xyz="-0.0535 -0.0826 0.00868"/>
    <parent link="trunk"/>
    <child link="ultraSound_right"/>
  </joint>
  <link name="ultraSound_right">
    <!-- <collision>
      <origin rpy="0 0 0" xyz="0 0 0"/>
      <geometry>
        <box size=".001 .001 .001"/>
      </geometry>
    </collision> -->
    <visual>
      <origin rpy="0 0 0" xyz="0 0 0"/>
      <geometry>
        <mesh filename="package://go1_description/meshes/ultraSound.dae" scale="1 1 1"/>
      </geometry>
      <material name="black"/>
    </visual>
    <!-- <inertial>
      <mass value="1e-5"/>
      <origin rpy="0 0 0" xyz="0 0 0"/>
      <inertia ixx="1e-6" ixy="0" ixz="0" iyy="1e-6" iyz="0" izz="1e-6"/>
    </inertial> -->
  </link>
  <joint name="ultraSound_joint_face" type="fixed">
    <origin rpy="0 0 0" xyz="0.2747 0.0 -0.0088"/>
    <parent link="trunk"/>
    <child link="ultraSound_face"/>
  </joint>
  <link name="ultraSound_face">
    <!-- <collision>
      <origin rpy="0 0 0" xyz="0 0 0"/>
      <geometry>
        <box size=".001 .001 .001"/>
      </geometry>
    </collision> -->
    <visual>
      <origin rpy="0 0 0" xyz="0 0 0"/>
      <geometry>
        <mesh filename="package://go1_description/meshes/ultraSound.dae" scale="1 1 1"/>
      </geometry>
      <material name="black"/>
    </visual>
    <!-- <inertial>
      <mass value="1e-5"/>
      <origin rpy="0 0 0" xyz="0 0 0"/>
      <inertia ixx="1e-6" ixy="0" ixz="0" iyy="1e-6" iyz="0" izz="1e-6"/>
    </inertial> -->
  </link>
</robot>
